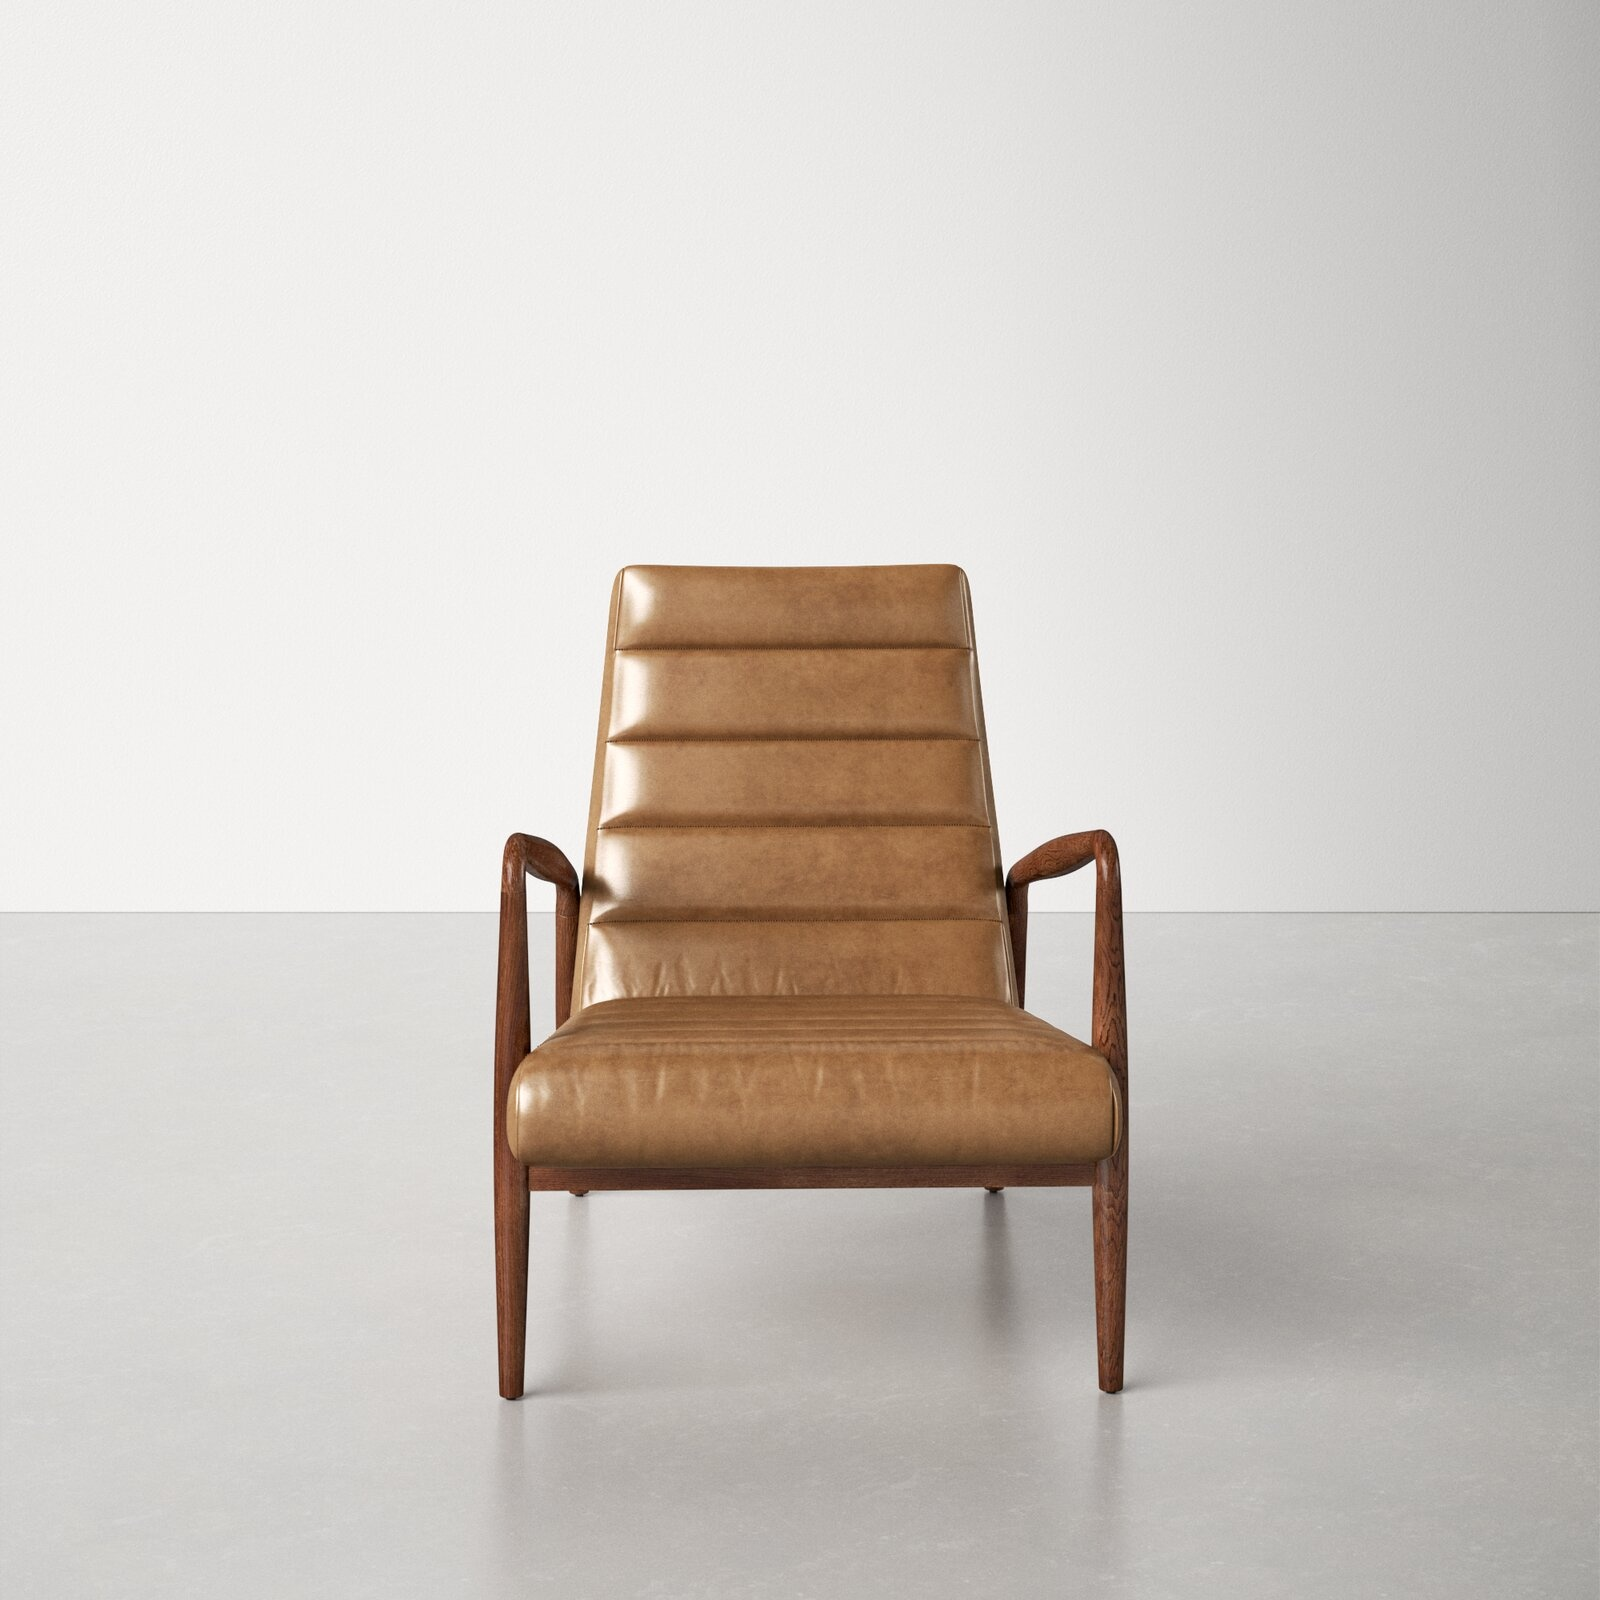obstacle: (494, 566, 1127, 1396)
